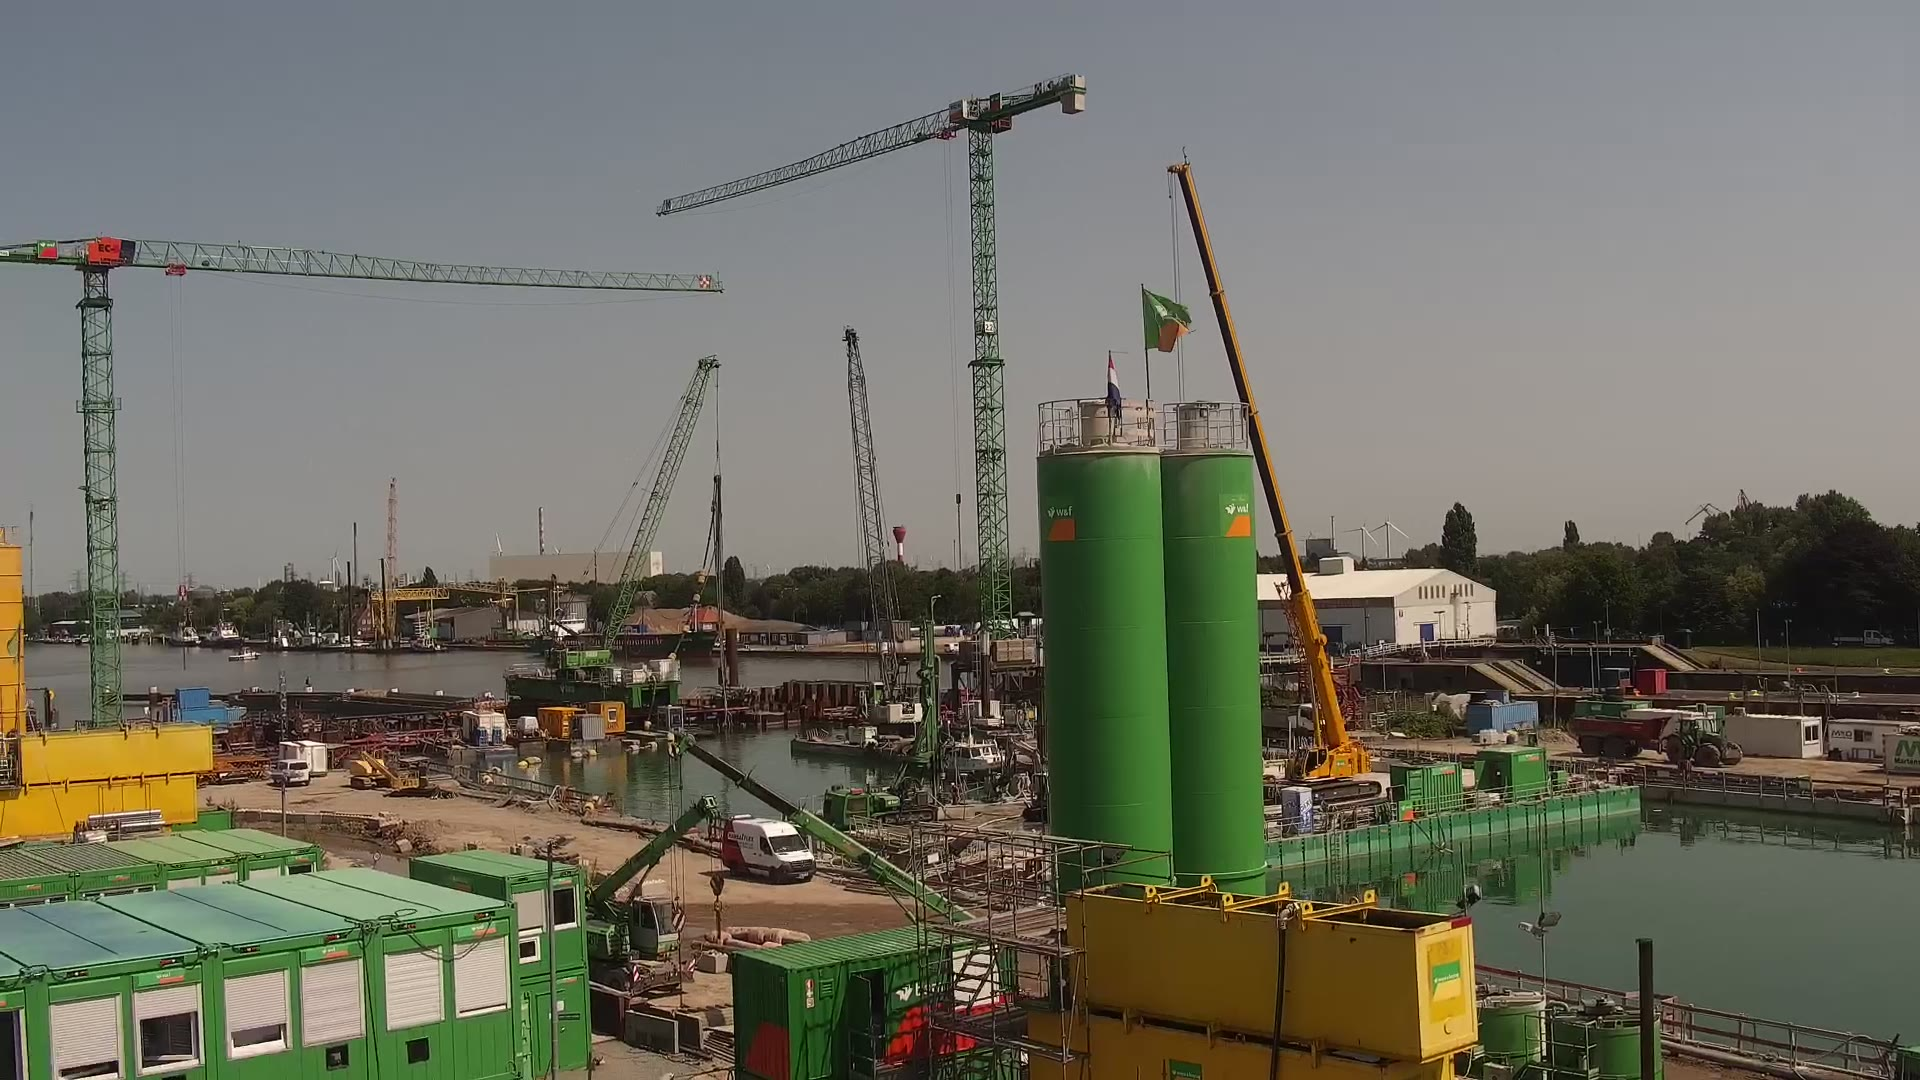human: (949, 781, 960, 806), (496, 578, 502, 590)
land: (1567, 711, 1743, 768), (721, 812, 817, 884), (269, 757, 311, 787), (1829, 628, 1893, 647), (943, 641, 960, 652)
sea: (935, 686, 1011, 776), (196, 600, 240, 647), (166, 607, 199, 645), (407, 628, 447, 653), (321, 631, 370, 650), (228, 645, 262, 662)
